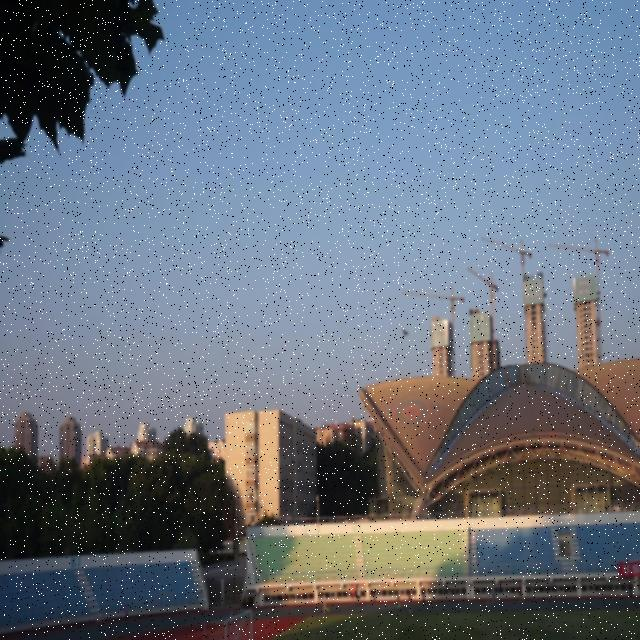UAV: (401, 328, 410, 338)
